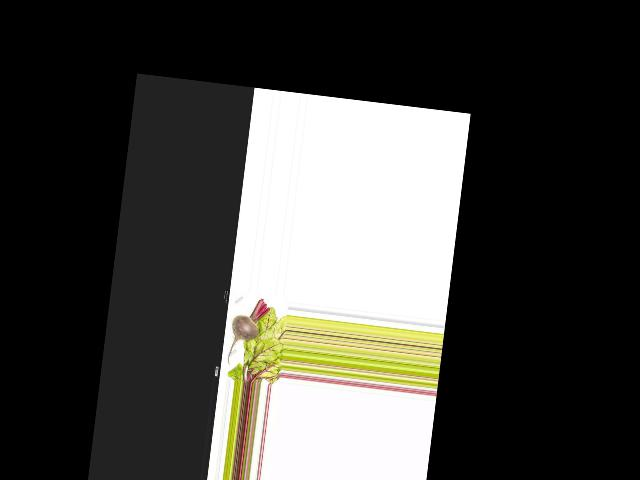beet: (226, 295, 271, 368)
